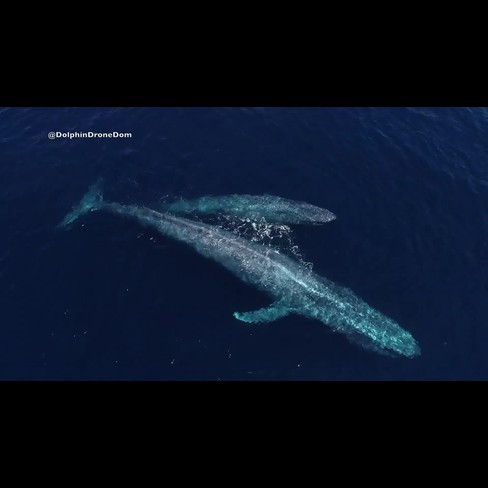bluewhale: (50, 173, 427, 371), (157, 189, 339, 231)
